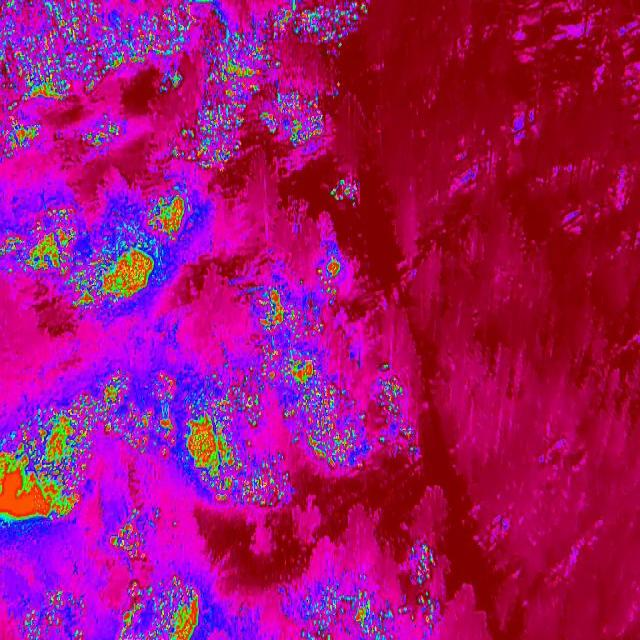fire: (0, 186, 206, 312), (185, 0, 328, 174), (137, 358, 290, 508), (254, 285, 372, 471), (0, 368, 129, 534), (0, 0, 184, 65), (290, 575, 398, 640), (117, 569, 208, 640), (0, 62, 119, 106), (26, 579, 88, 640), (0, 113, 49, 159), (327, 0, 369, 52), (81, 114, 131, 154)
